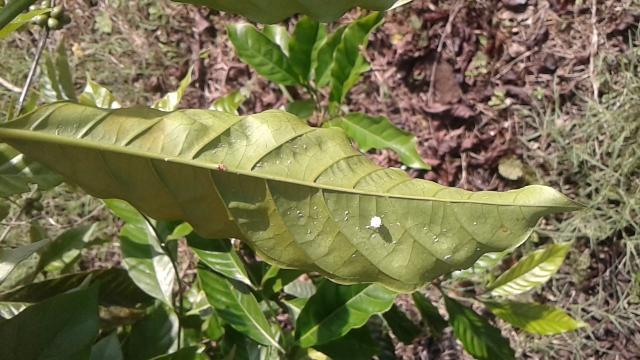rust_level_1: (0, 98, 590, 296)
